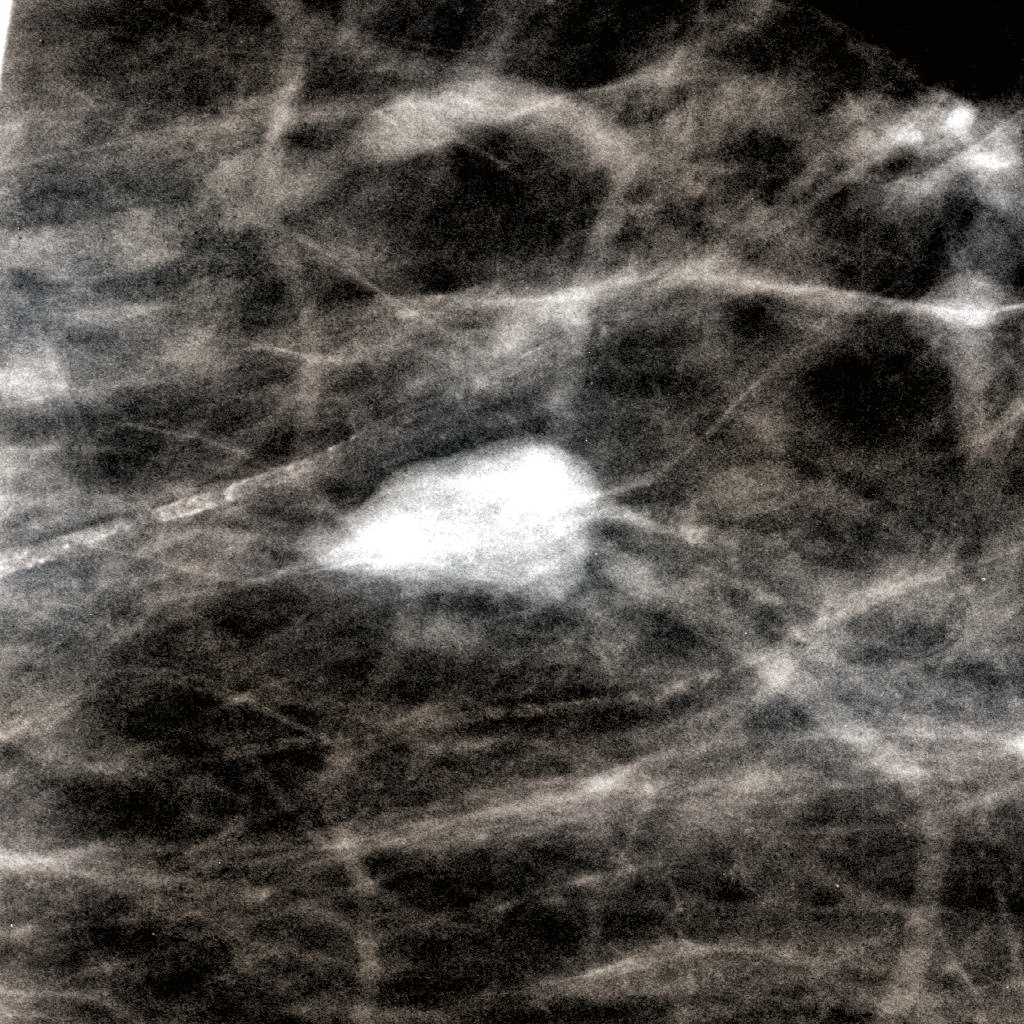tumor: (278, 399, 630, 625)
